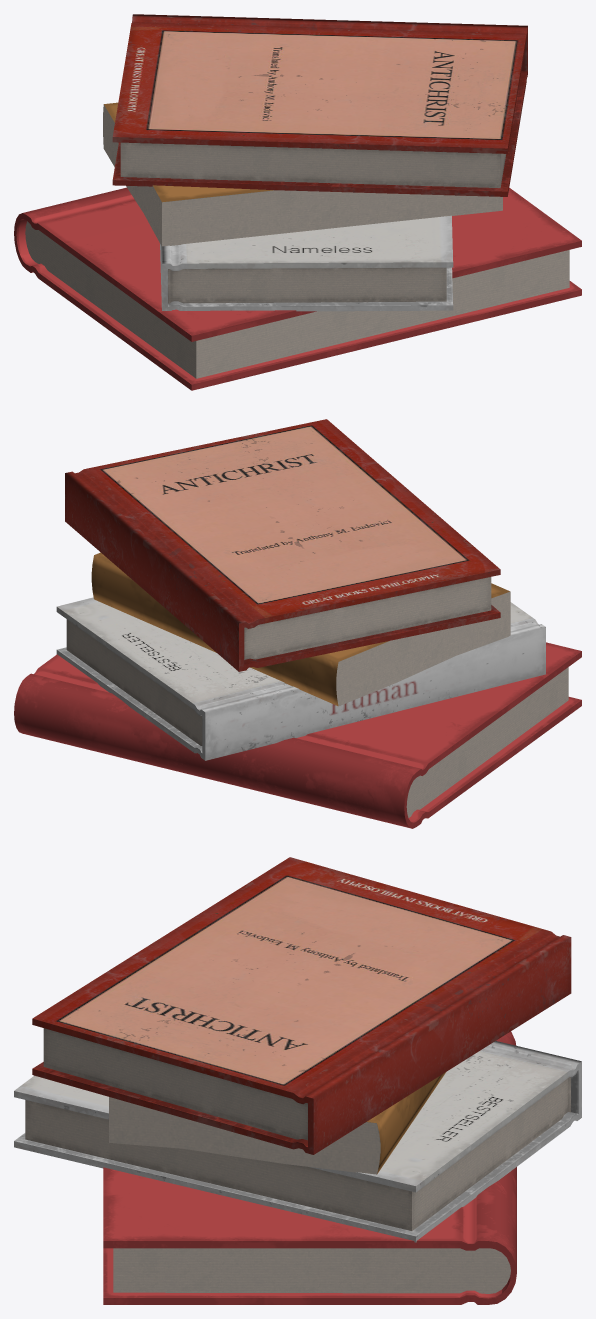
Rendered from SM_Book_Stack_01.fbx.
3 renders of one model, top to bottom at view 1: azimuth 30°, elevation 25°; view 2: azimuth 150°, elevation 25°; view 3: azimuth 270°, elevation 25°, orthographic. The views are drawn at different scales.
Visible parts, largest first — view 1: SM_Book_Stack_01_LOD0; view 2: SM_Book_Stack_01_LOD0; view 3: SM_Book_Stack_01_LOD0.
Part boxes in pixels (left/top/right/bottom): SM_Book_Stack_01_LOD0: left=14, top=14, right=581, bottom=390; SM_Book_Stack_01_LOD0: left=14, top=419, right=581, bottom=828; SM_Book_Stack_01_LOD0: left=14, top=857, right=581, bottom=1304.
Size of the model in its own units: 34.84 by 34.51 by 15.21.
